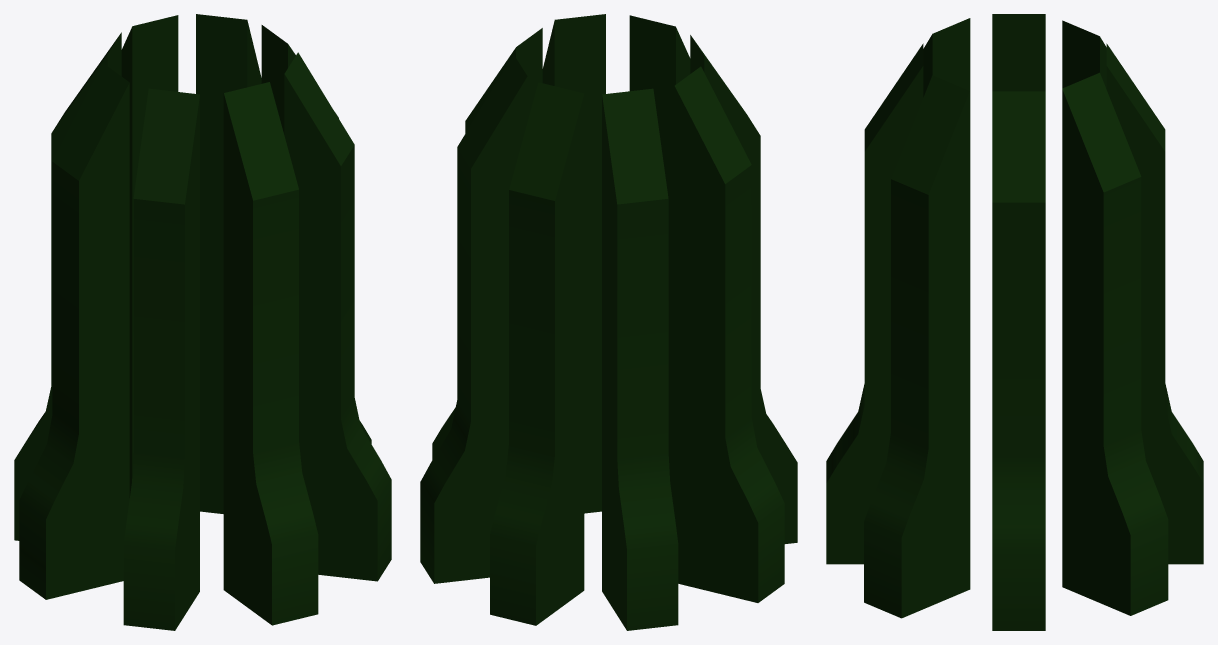
The model's file is round-tower-base-5.fbx.
3 renders of one model, left to right at view 1: azimuth 30°, elevation 25°; view 2: azimuth 150°, elevation 25°; view 3: azimuth 270°, elevation 25°, orthographic.
Parts seen in each view (by area): view 1: round-tower-base-5; view 2: round-tower-base-5; view 3: round-tower-base-5.
Part boxes in pixels (<box>): round-tower-base-5: <box>14,14,391,630</box>; round-tower-base-5: <box>420,14,797,630</box>; round-tower-base-5: <box>826,14,1203,630</box>.
Bounding box in the file's own units: 4.98 × 7.26 × 4.98.
